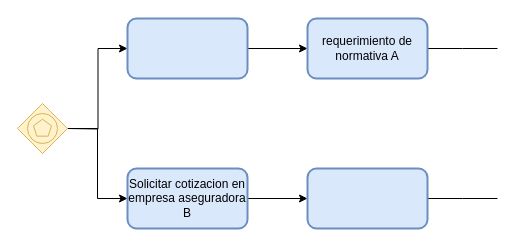
Some shapes in this 516 by 246 pixel diagram are drawn without their labels. The shapes that lost their labels are listed below. From the top down, each one's centre as x and y in pixels, then its label:
the point at 187,48: Solicitar cotizacion en empresa aseguradora A
the point at 367,198: requerimiento de normativa B
